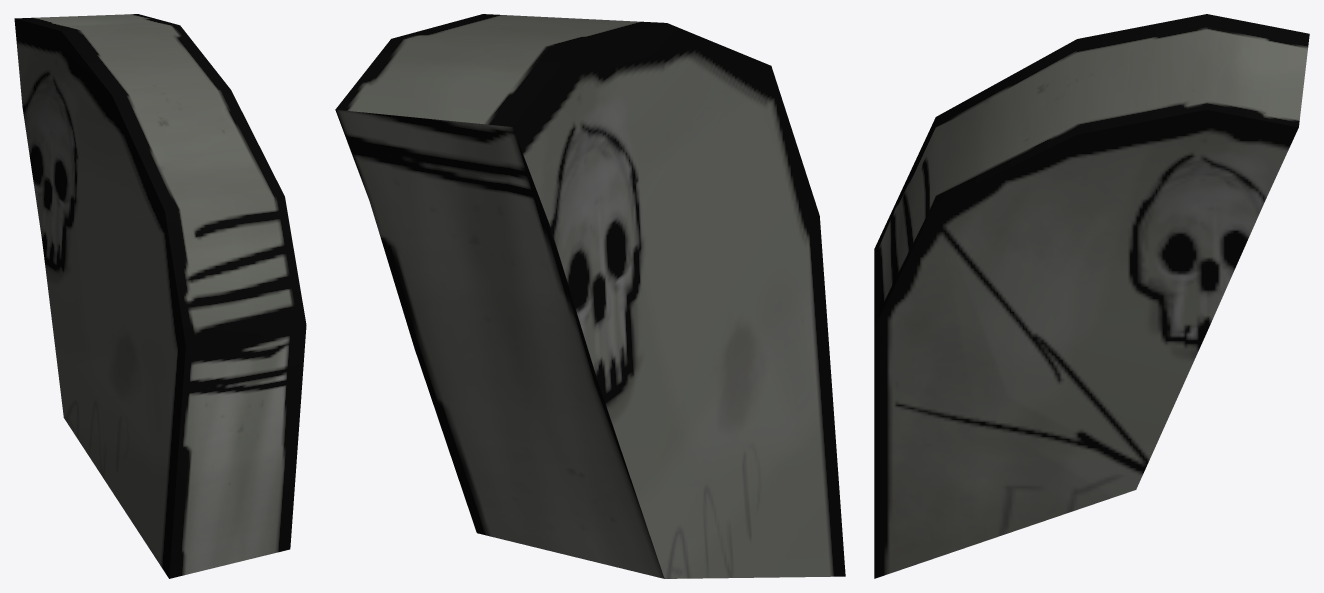
Rendered from tombstone_01_gib2.fbx.
3 renders of one model, left to right at view 1: azimuth 30°, elevation 25°; view 2: azimuth 150°, elevation 25°; view 3: azimuth 270°, elevation 25°, orthographic. The views are drawn at different scales.
Parts seen in each view (by area): view 1: tombstone_01_gib2; view 2: tombstone_01_gib2; view 3: tombstone_01_gib2.
Boxes of the visible parts, left/top/right/bottom form: tombstone_01_gib2: left=14, top=14, right=306, bottom=578; tombstone_01_gib2: left=335, top=14, right=845, bottom=578; tombstone_01_gib2: left=874, top=14, right=1309, bottom=578.
Size of the model in its own units: 1.26 by 3.45 by 2.65.
